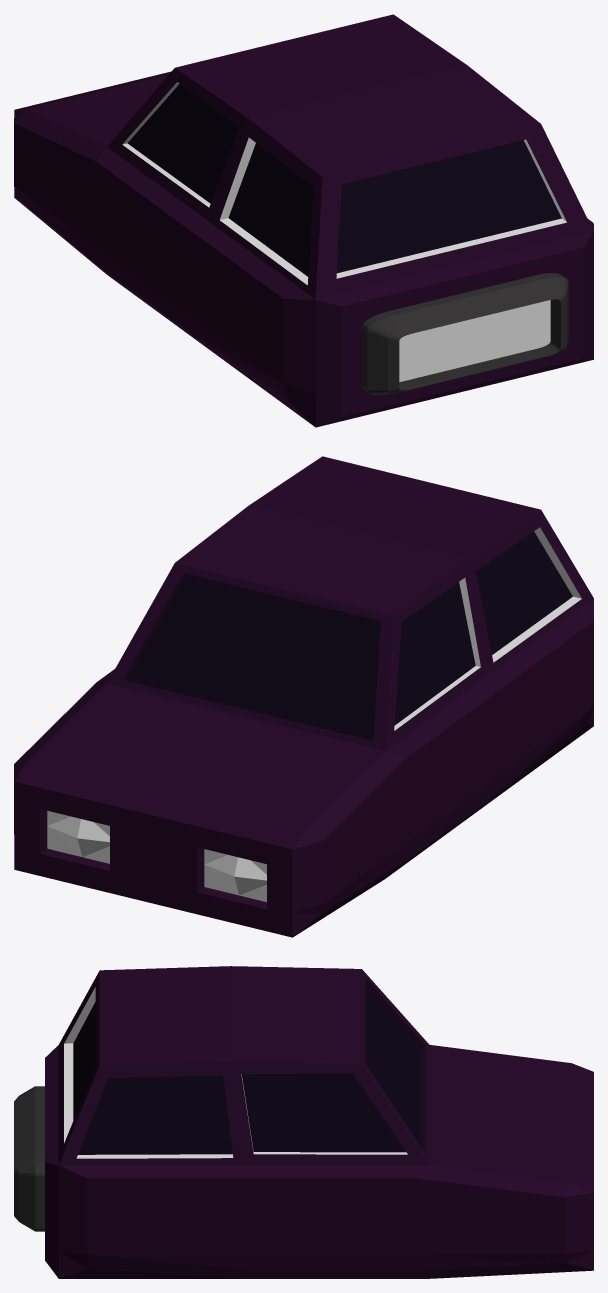
The model's file is lowpoly_car.fbx.
The picture shows the model from 3 angles, top to bottom: view 1: azimuth 30°, elevation 25°; view 2: azimuth 150°, elevation 25°; view 3: azimuth 270°, elevation 25°; orthographic projection. The views are drawn at different scales.
Parts seen in each view (by area): view 1: Cube; view 2: Cube; view 3: Cube.
Part boxes in pixels (x1,y1,x2,y2): Cube: (14, 14, 593, 427); Cube: (14, 456, 593, 937); Cube: (14, 966, 593, 1278).
Bounding box in the file's own units: 217 × 84.54 × 119.
